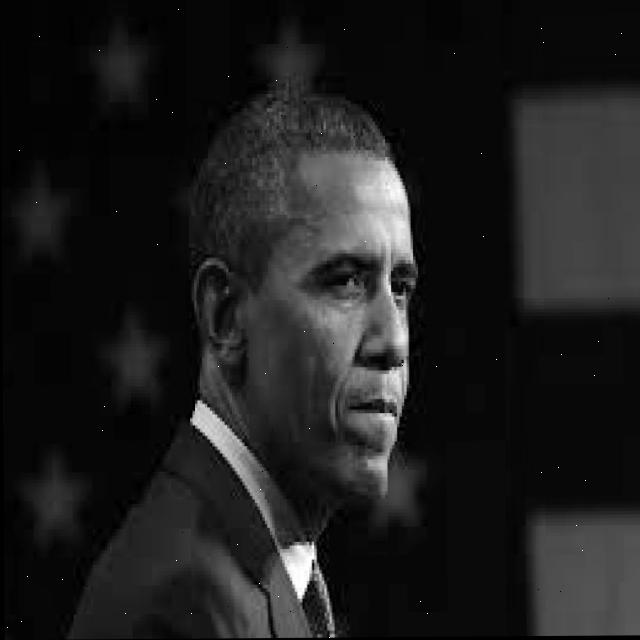Angry: (191, 76, 448, 528)
